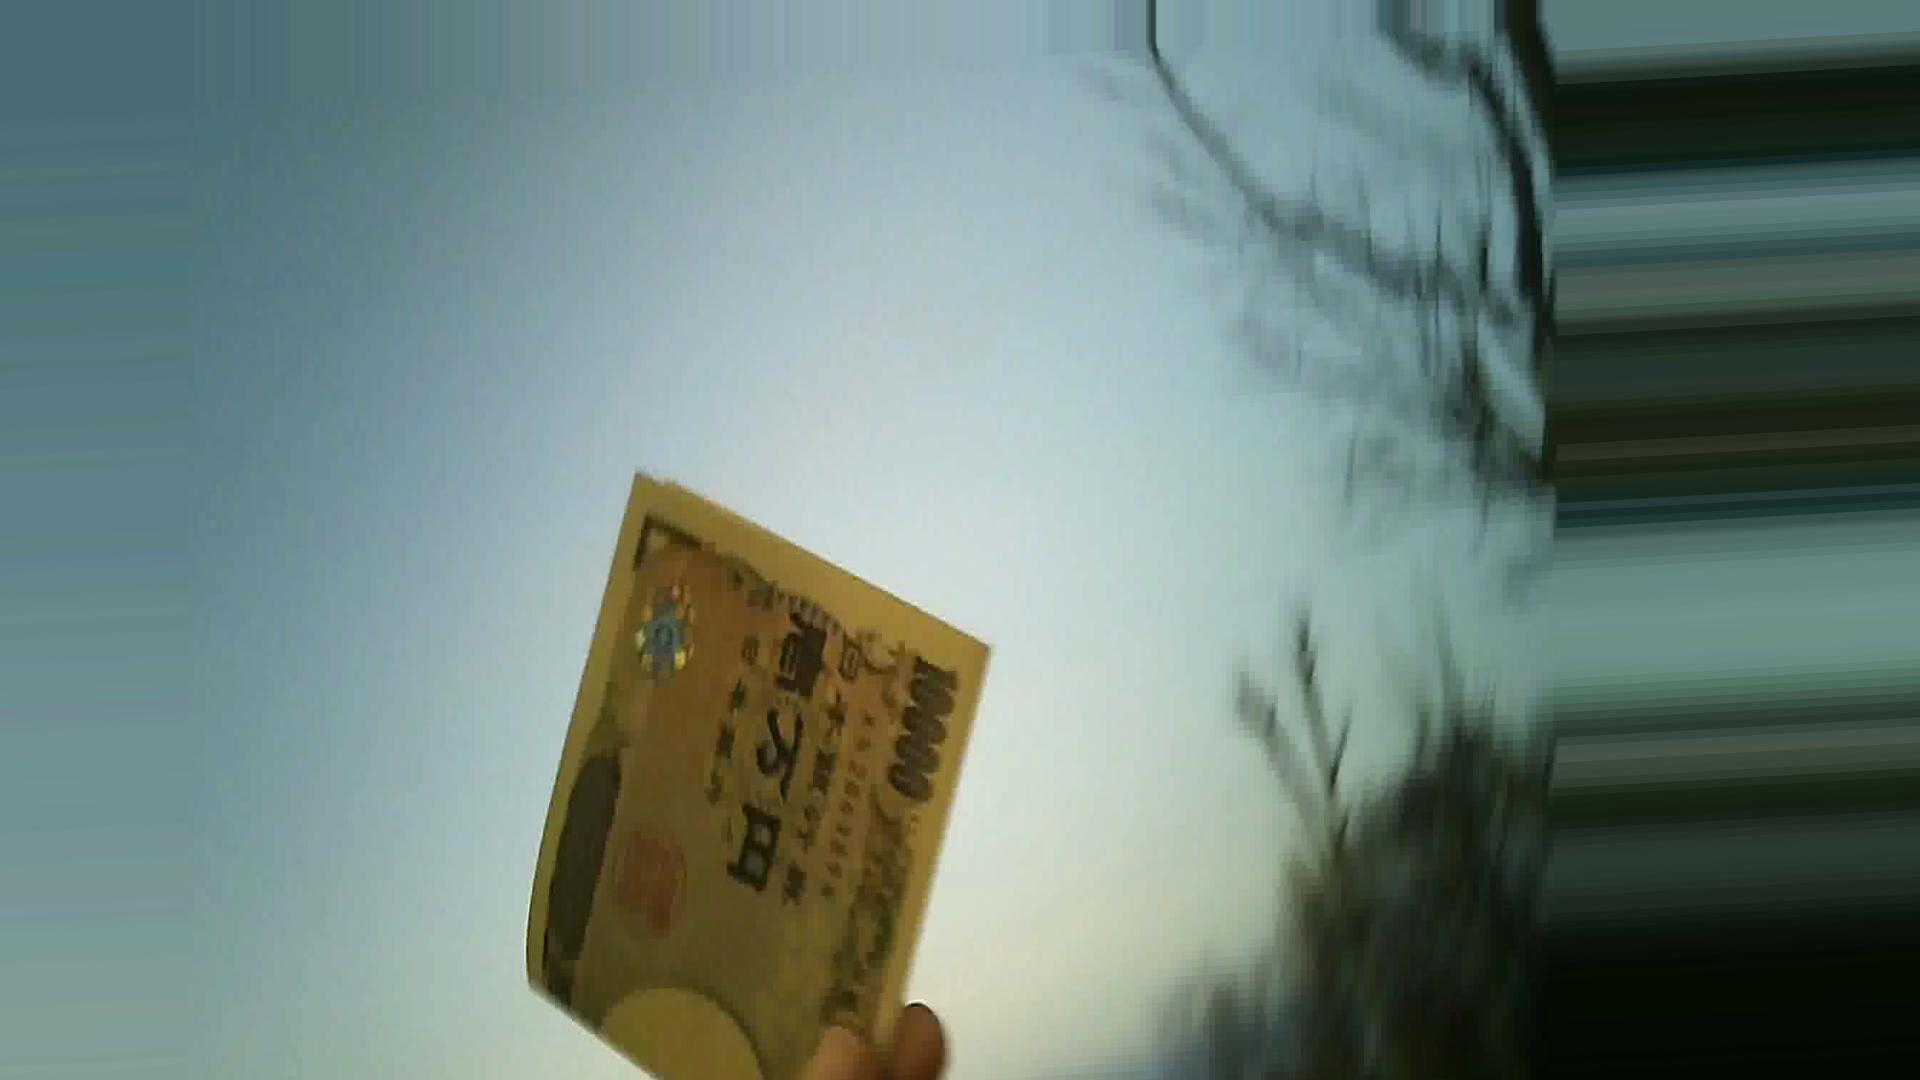10,000 Yen: (491, 483, 981, 1042)
